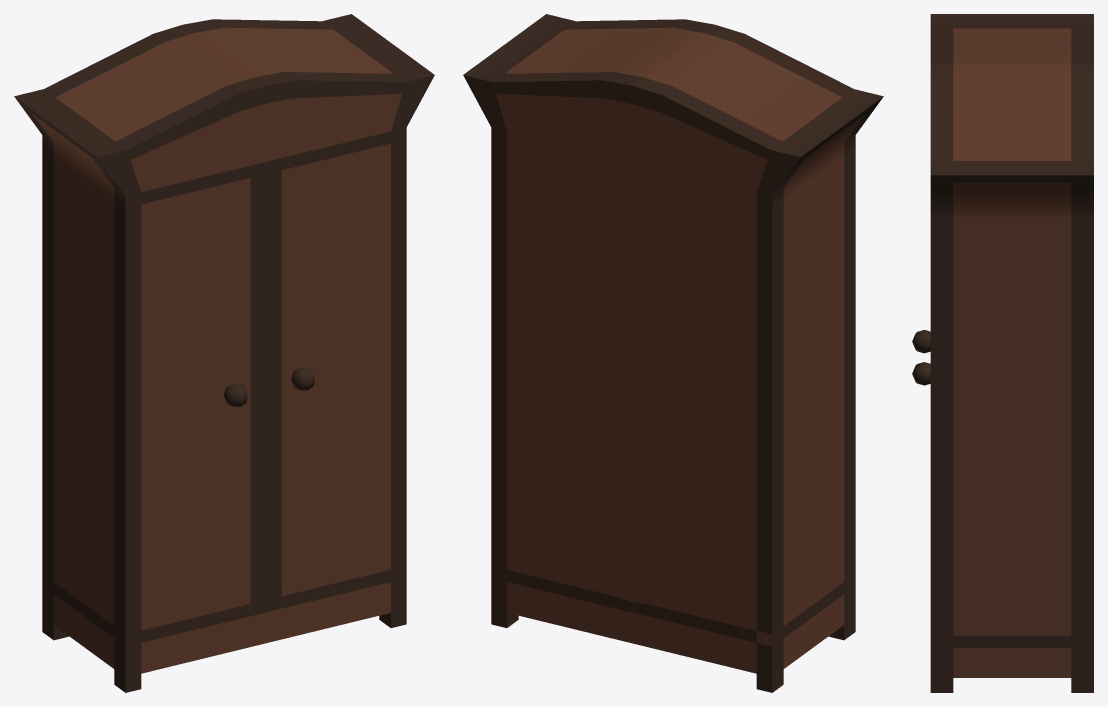
File: closet.fbx
The picture shows the model from 3 angles, left to right: view 1: azimuth 30°, elevation 25°; view 2: azimuth 150°, elevation 25°; view 3: azimuth 270°, elevation 25°; orthographic projection. The views are drawn at different scales.
Parts seen in each view (by area): view 1: Closet; view 2: Closet; view 3: Closet.
Part boxes in pixels (x1,y1,x2,y2): Closet: (14,14,434,692); Closet: (463,14,883,692); Closet: (912,14,1093,692).
Bounding box in the file's own units: 186 × 302 × 88.64.
